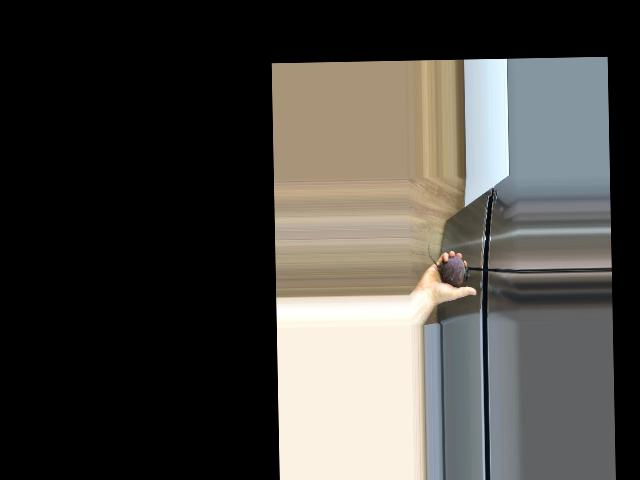beet: (428, 242, 469, 287)
